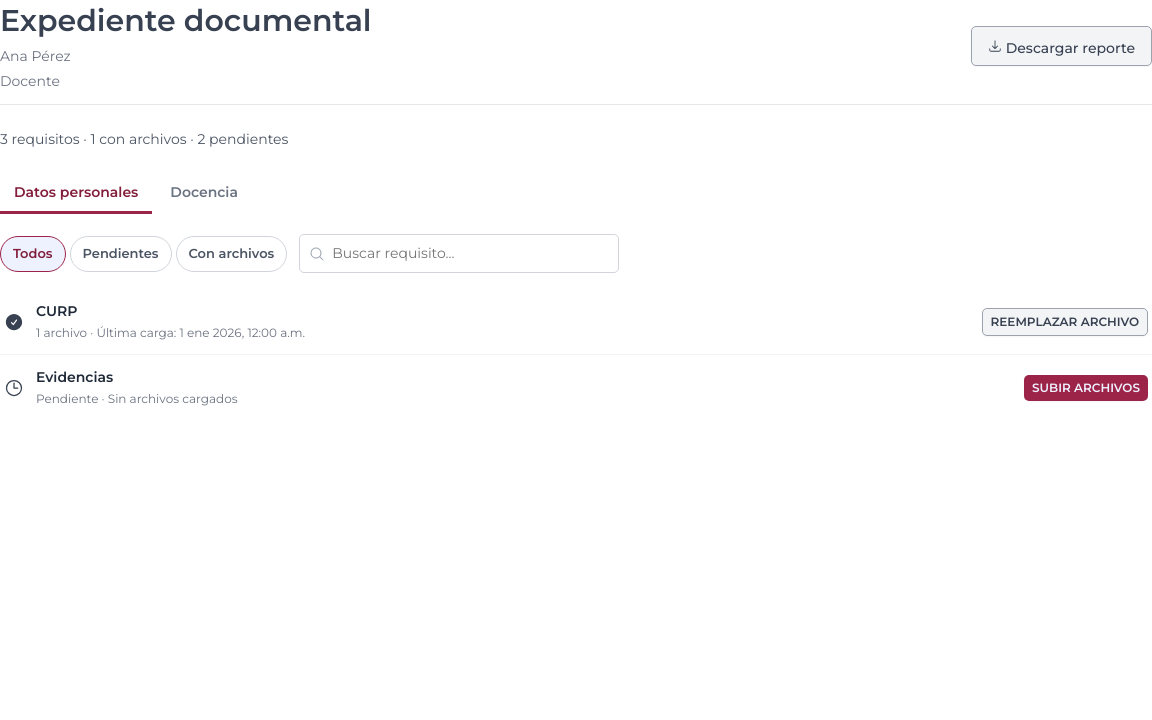
Test case: Abrir y cerrar el drawer › hacer click en la acción de una fila abre el drawer del requisito correcto
This screenshot has width=1152, height=720.
Click the button "Subir archivos" at [1086, 388], box [1024, 374, 1148, 400]
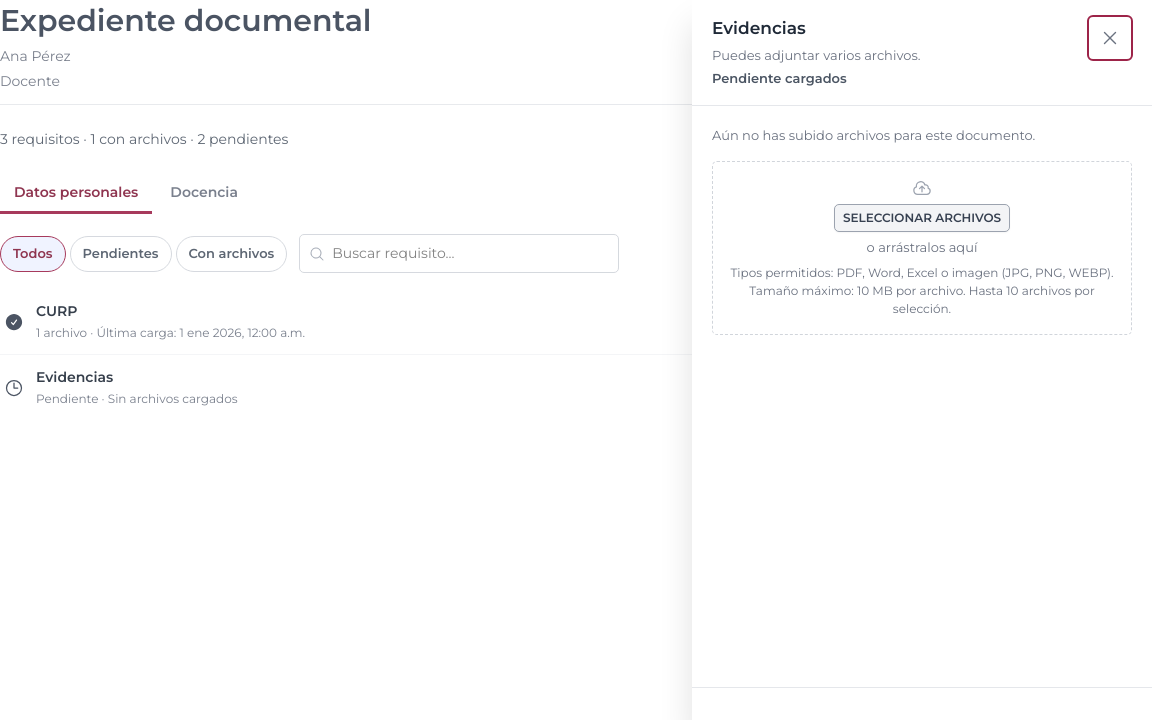
Expected: the dialog shows "Evidencias", [712, 18, 806, 38]
